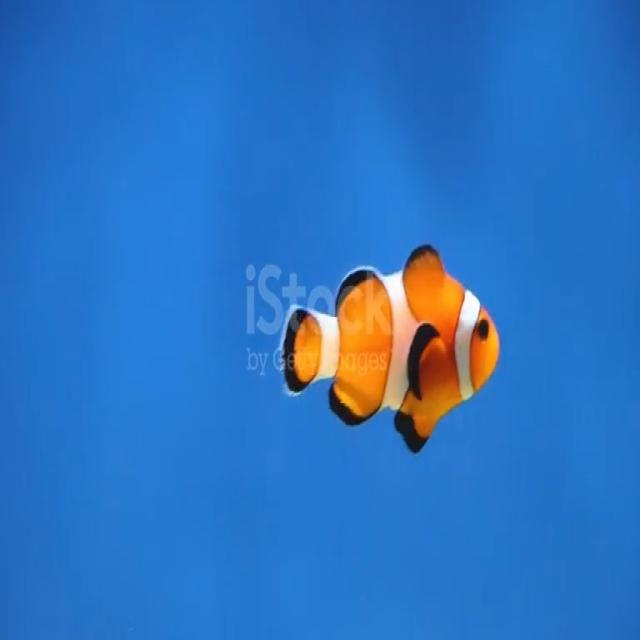fish: (280, 241, 517, 451)
